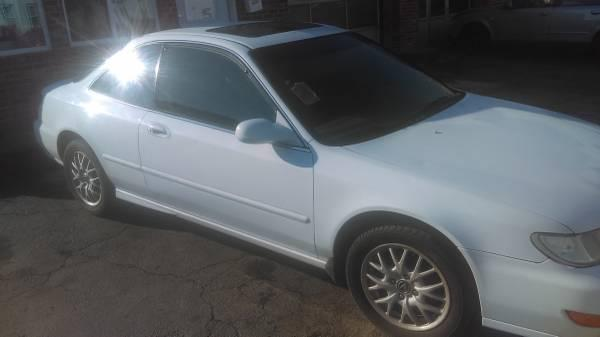acura: (24, 12, 600, 332)
